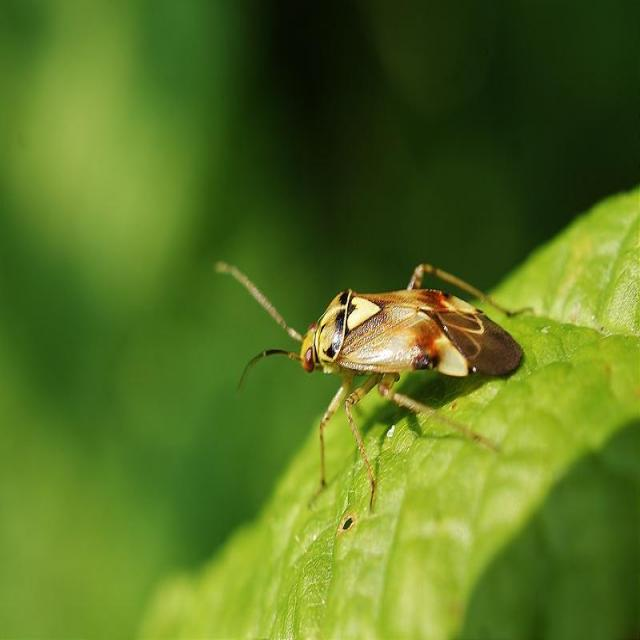Miridae-Adult-: (205, 232, 536, 494)
